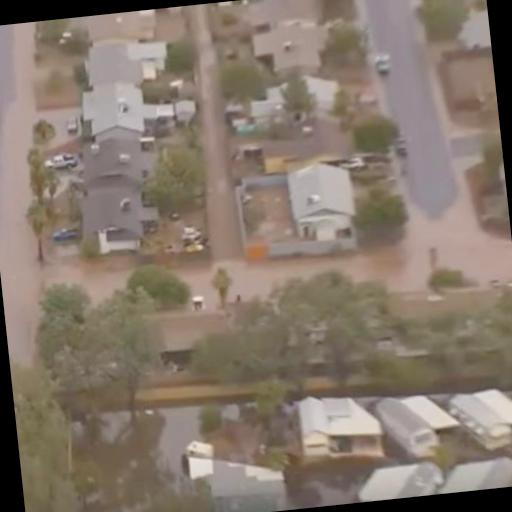flood: (0, 22, 131, 367), (230, 206, 512, 297), (170, 267, 219, 310)
house: (62, 124, 164, 258), (291, 390, 381, 470), (286, 160, 360, 244), (76, 78, 166, 140), (246, 20, 336, 80), (374, 390, 438, 462), (445, 384, 512, 452), (78, 36, 164, 88), (357, 460, 442, 502), (448, 453, 512, 493)
